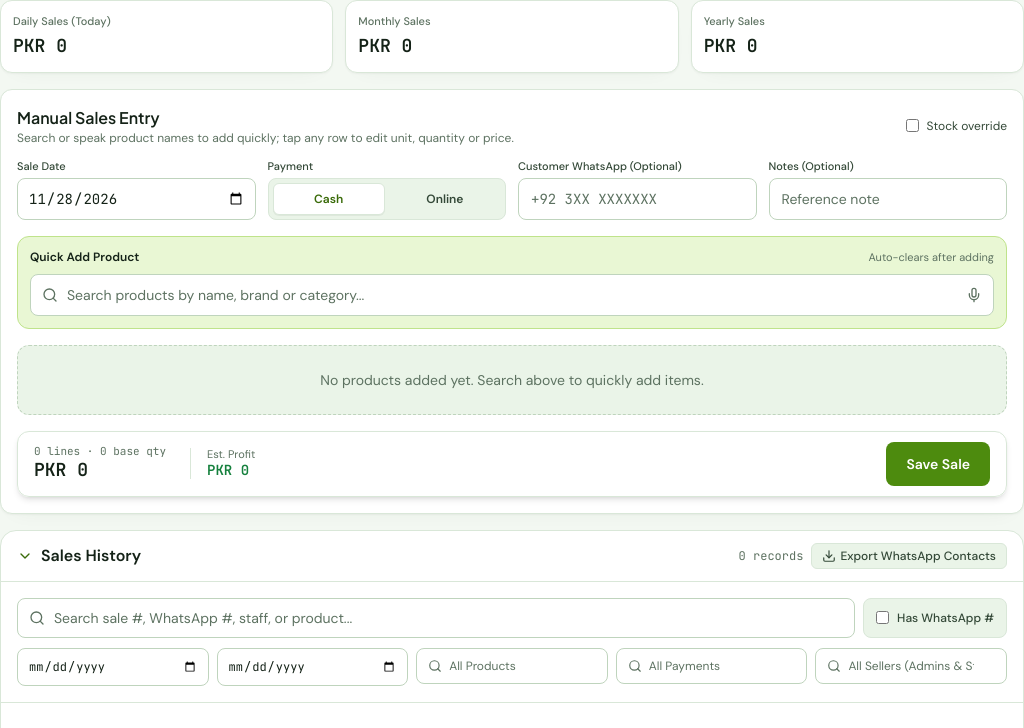
Active / Inactive product UI lifecycle across ProductsPage, SearchableProductSelector, and SalesPage › excludes inactive products from Sales typing and voice search, rejects stale selections, and restores them when reactivated
The width and height of the screenshot is (1024, 728).
Later steps or results of the test are not shown.
Type "Mothercare Archived Lotion" into the dropdown labelled "Quick Add Product".
click(512, 294); type("Mothercare Archived Lotion")  # box [30,274,994,316]
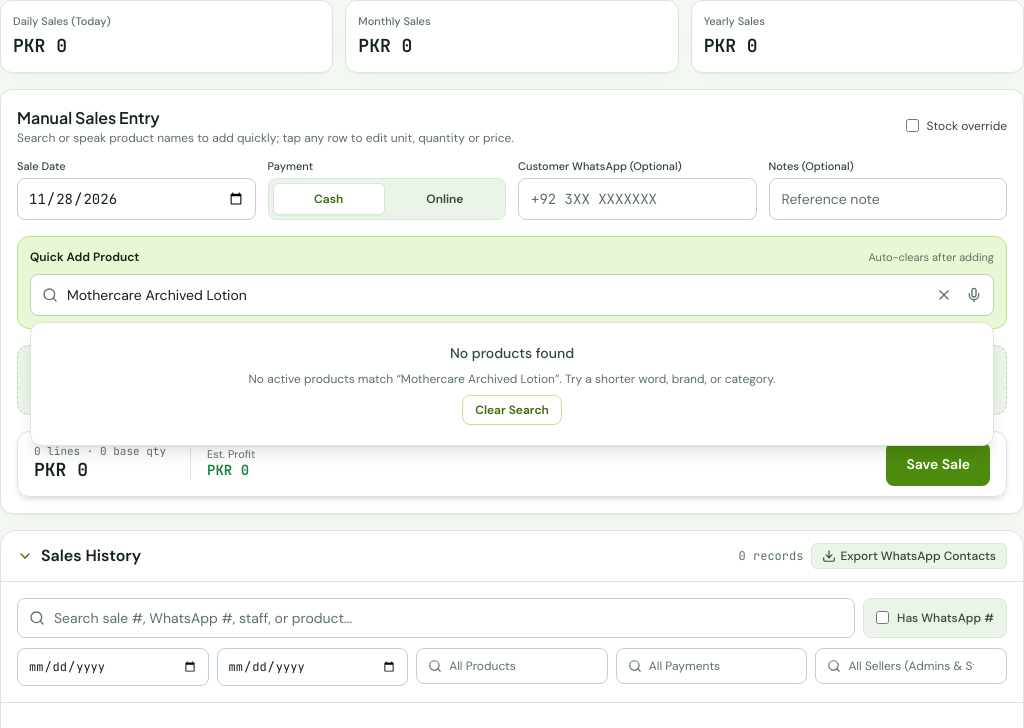
Check: the text "No active products match" is shown, box [249,370,401,386]
Click the button named "search product by voice".
click(974, 294)  # box [960,280,988,308]
Check: the text "No active products match" is shown, box [249,370,401,386]
Replace the text in the dropdown labelled "Quick Add Product" with "LEO Baby Wipes" at (512, 294), box [30,274,994,316]
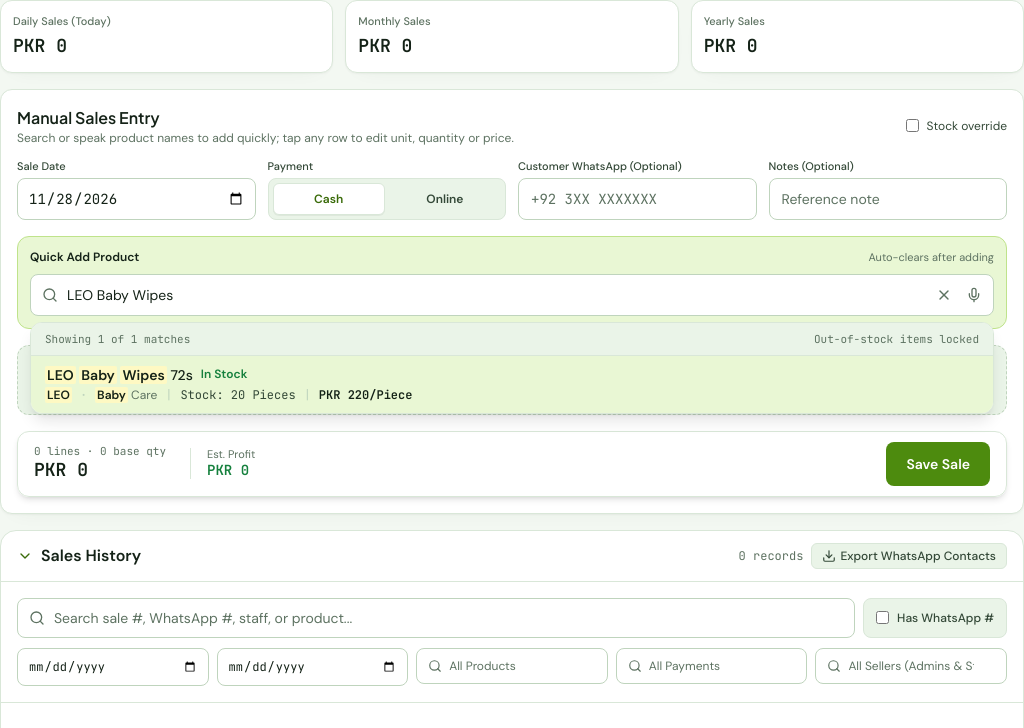
Check: the list is shown
Click the button that starts with "LEO".
click(60, 375)  # box [31,356,993,413]
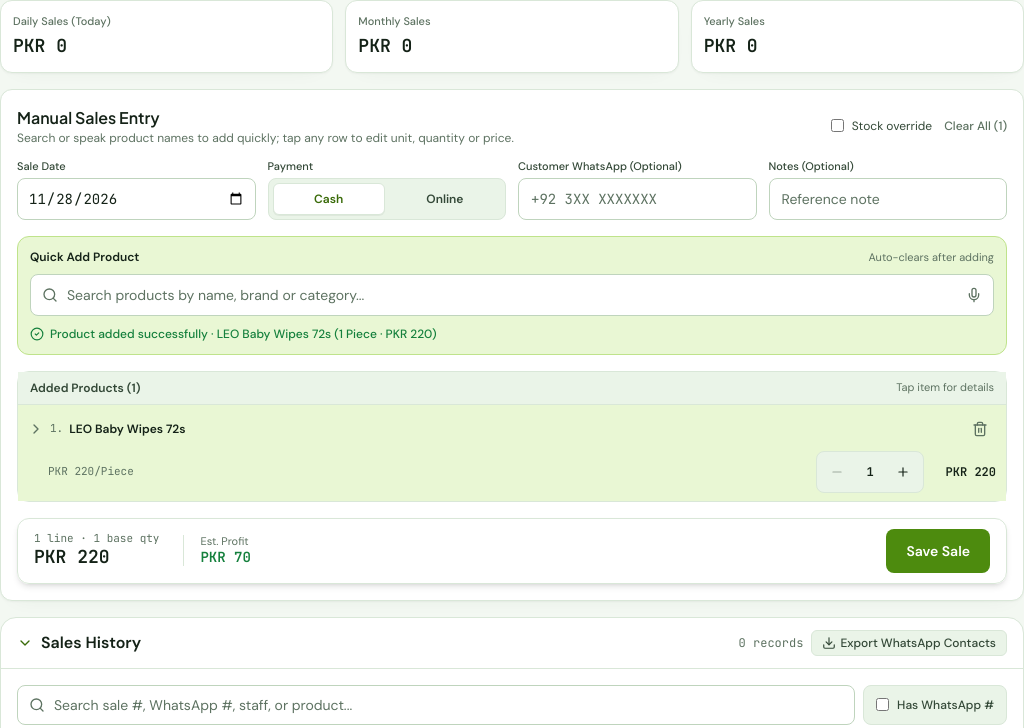
Check: the text "LEO Baby Wipes 72s" is shown, box [50,326,436,342]
